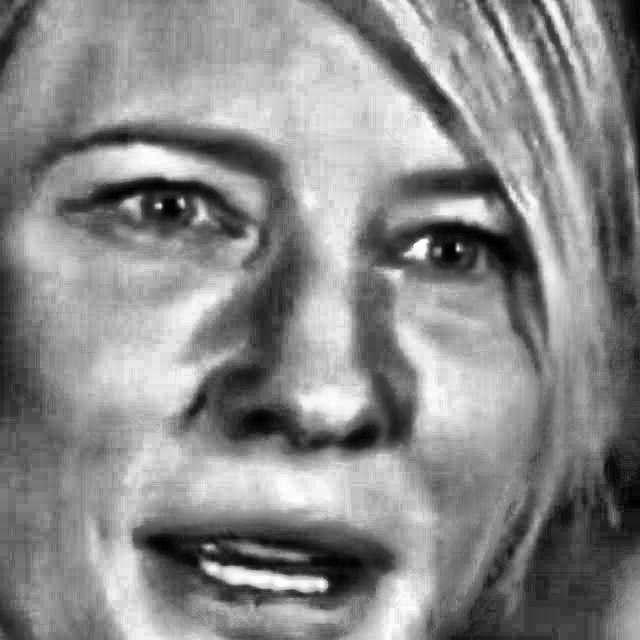sad: (32, 17, 540, 640)
